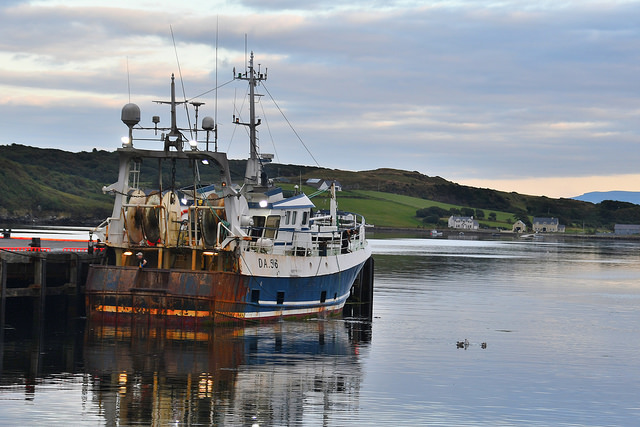fishing_boat: (82, 37, 371, 328)
